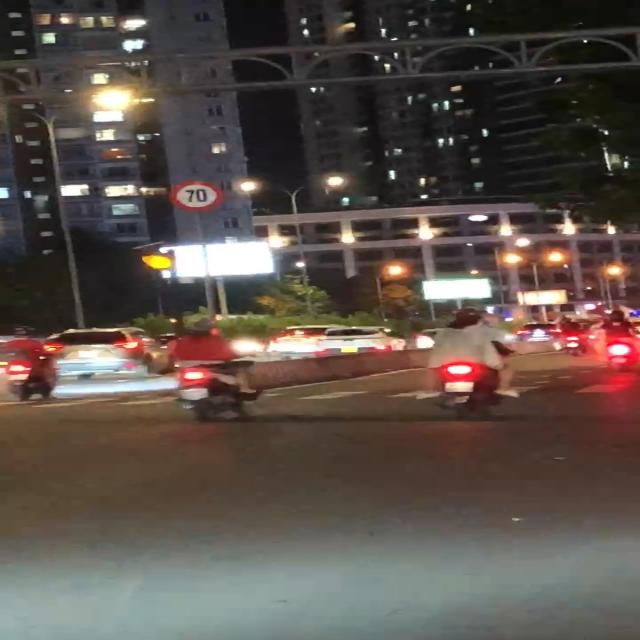Bien bao toc do toi da cho phep: (169, 176, 227, 212)
